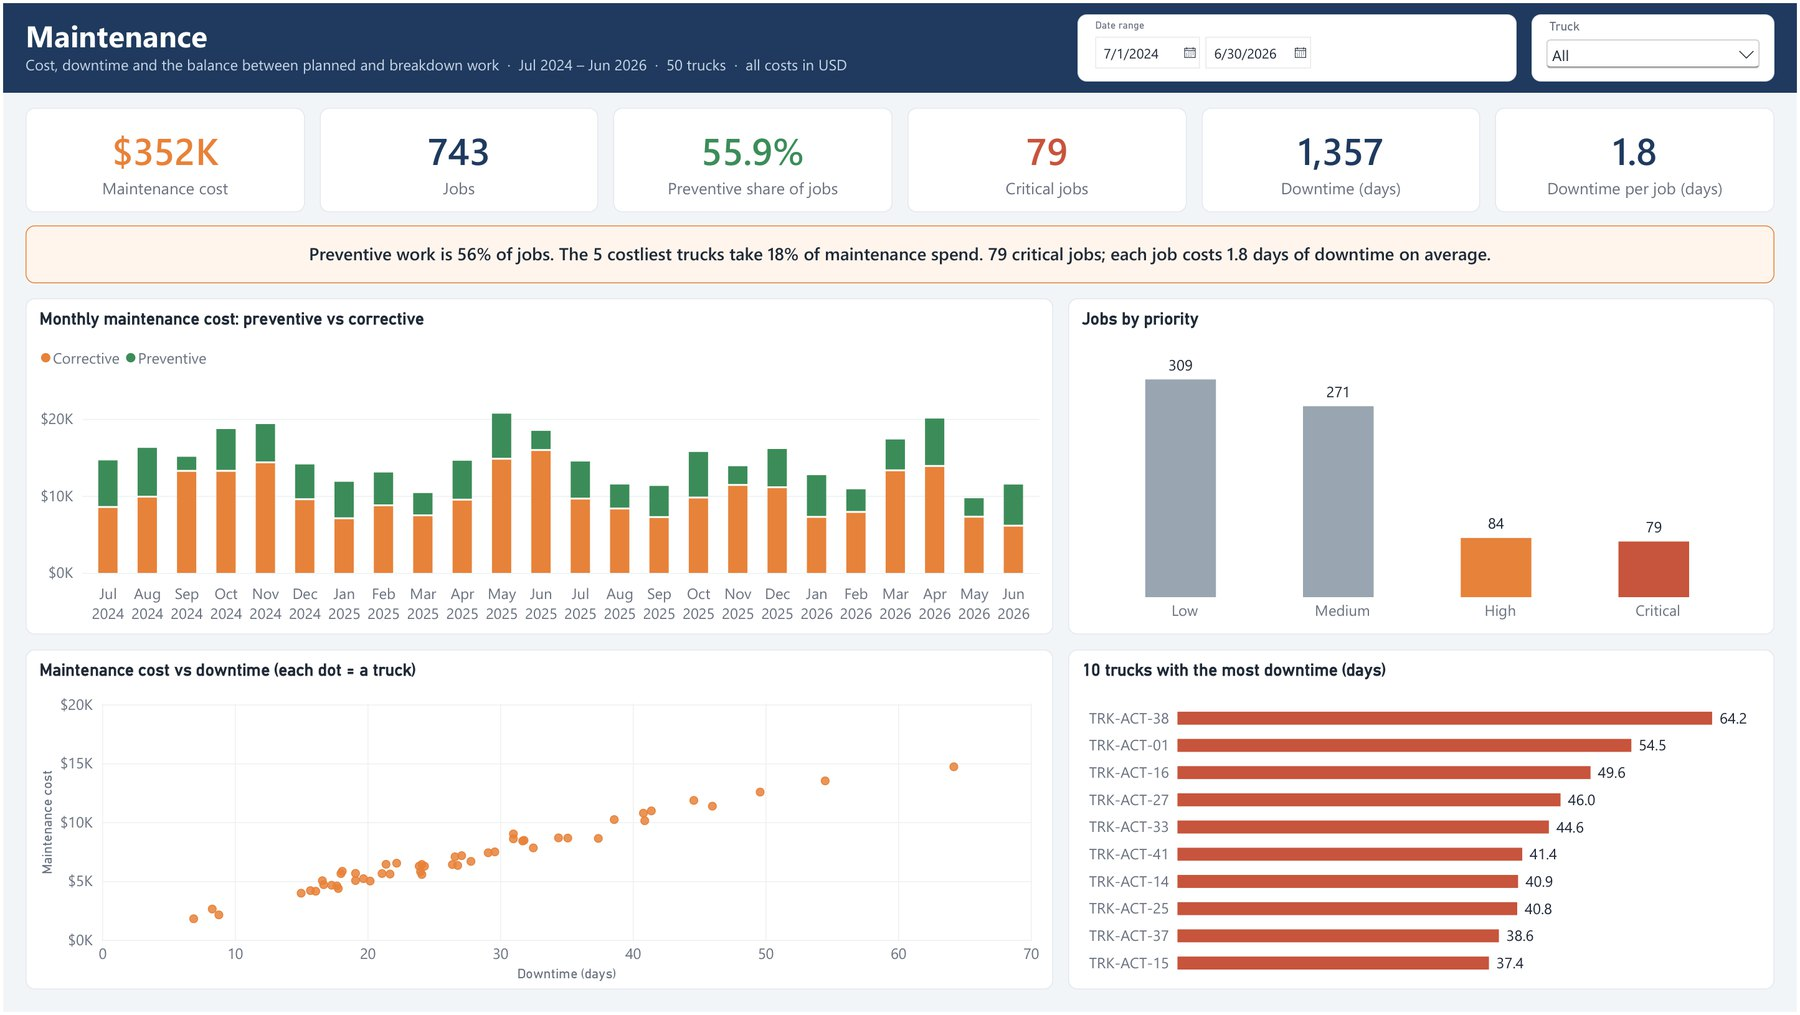

Layout of this report page (visuals, bound fields, positions):
{"tool":"powerbi","page":{"name":"Maintenance","canvas":[1920,1080],"ordinal":2},"visuals":[{"type":"textbox","box":[0,0,1920,96],"z":0},{"type":"slicer","fields":{"Values":["DimDate.Date"]},"box":[1150,12,470,72],"z":100},{"type":"slicer","fields":{"Values":["DimTruck.Truck ID"]},"box":[1636,12,260,72],"z":101},{"type":"card","fields":{"Values":["_Measures_.Total Maintenance Cost"]},"box":[24,112,298.7,112],"z":1000},{"type":"card","fields":{"Values":["_Measures_.Total Maintenance Jobs"]},"box":[338.7,112,298.7,112],"z":1001},{"type":"card","fields":{"Values":["_Measures_.Preventive Maintenance %"]},"box":[653.3,112,298.7,112],"z":1002},{"type":"card","fields":{"Values":["_Measures_.Critical Jobs"]},"box":[968,112,298.7,112],"z":1003},{"type":"card","fields":{"Values":["_Measures_.Total Downtime"]},"box":[1282.7,112,298.7,112],"z":1004},{"type":"card","fields":{"Values":["_Measures_.Average Downtime"]},"box":[1597.3,112,298.7,112],"z":1005},{"type":"card","fields":{"Values":["_Measures_.Insight - Maintenance"]},"box":[24,238,1872,62],"z":1100},{"type":"columnChart","title":"Monthly maintenance cost: preventive vs corrective","fields":{"Category":["DimDate.Month Year"],"Y":["_Measures_.Total Maintenance Cost"],"Series":["Maintenance.Maintenance Type Clean"]},"box":[24,316,1100,360],"z":2000},{"type":"clusteredColumnChart","title":"Jobs by priority","fields":{"Category":["Maintenance.Priority Clean"],"Y":["_Measures_.Total Maintenance Jobs"]},"box":[1140,316,756,360],"z":2001},{"type":"scatterChart","title":"Maintenance cost vs downtime (each dot = a truck)","fields":{"Category":["DimTruck.Truck ID"],"X":["_Measures_.Total Downtime"],"Y":["_Measures_.Total Maintenance Cost"]},"box":[24,692,1100,364],"z":2002},{"type":"clusteredBarChart","title":"10 trucks with the most downtime (days)","fields":{"Category":["DimTruck.Truck ID"],"Y":["_Measures_.Total Downtime"]},"box":[1140,692,756,364],"z":2003}]}

Visuals, with their boxes in screenshot pixels (x1, y1, x2, y2), scaled from the page's 1920x1080 canvas onto the 1800x1015 screenshot:
textbox: detection(0, 0, 1799, 90)
slicer - DimDate.Date: detection(1078, 11, 1519, 79)
slicer - DimTruck.Truck ID: detection(1534, 11, 1778, 79)
card - _Measures_.Total Maintenance Cost: detection(22, 105, 303, 211)
card - _Measures_.Total Maintenance Jobs: detection(318, 105, 598, 211)
card - _Measures_.Preventive Maintenance %: detection(612, 105, 892, 211)
card - _Measures_.Critical Jobs: detection(908, 105, 1188, 211)
card - _Measures_.Total Downtime: detection(1203, 105, 1483, 211)
card - _Measures_.Average Downtime: detection(1497, 105, 1778, 211)
card - _Measures_.Insight - Maintenance: detection(22, 224, 1778, 282)
"Monthly maintenance cost: preventive vs corrective" columnChart: detection(22, 297, 1054, 635)
"Jobs by priority" clusteredColumnChart: detection(1069, 297, 1778, 635)
"Maintenance cost vs downtime (each dot = a truck)" scatterChart: detection(22, 650, 1054, 992)
"10 trucks with the most downtime (days)" clusteredBarChart: detection(1069, 650, 1778, 992)
